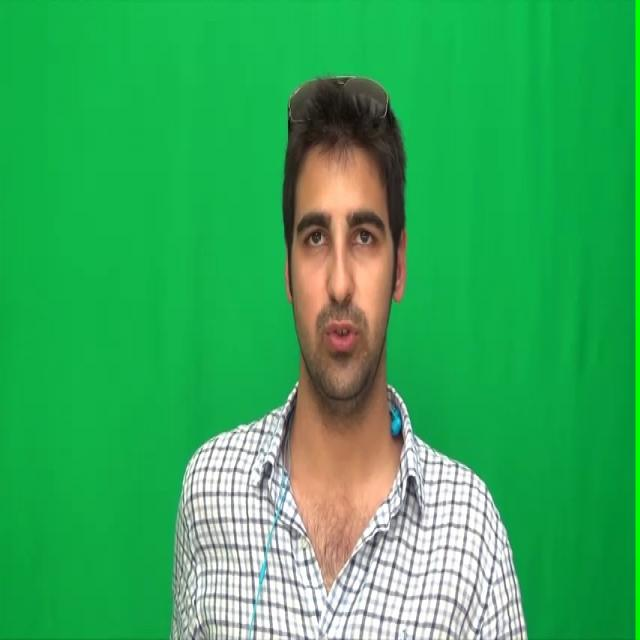Engaged: (286, 134, 391, 398)
